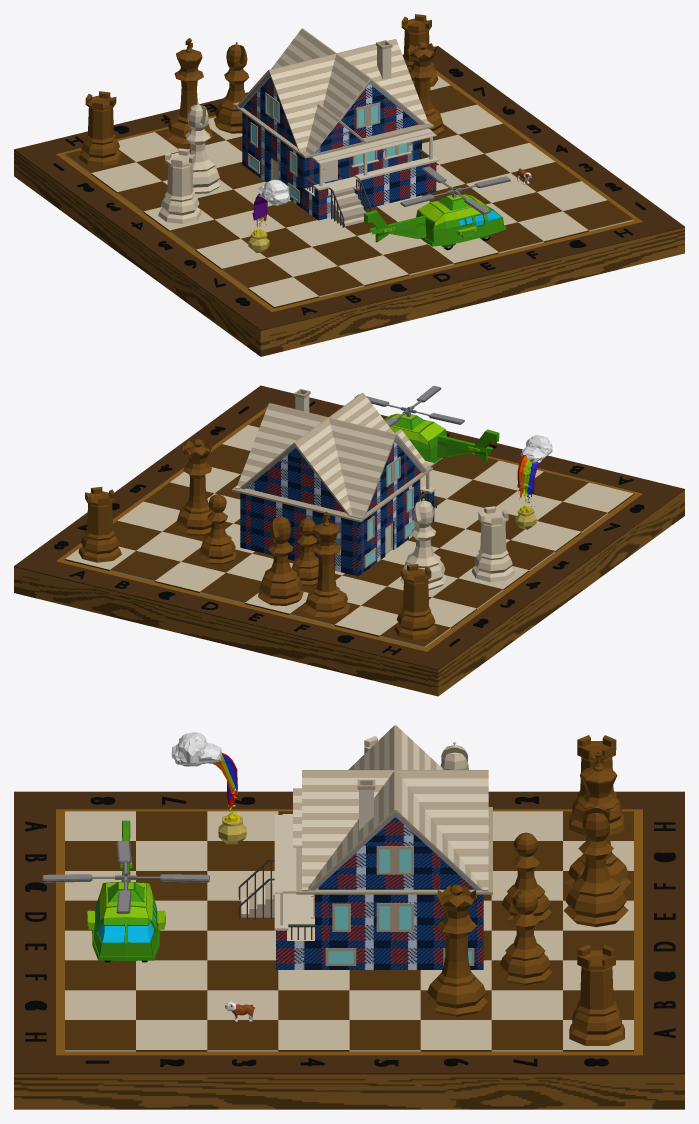
3 renders of one model, top to bottom at view 1: azimuth 30°, elevation 25°; view 2: azimuth 150°, elevation 25°; view 3: azimuth 270°, elevation 25°, orthographic. The views are drawn at different scales.
Visible parts, largest first — view 1: Cube.002, Cube.171, VEHICLES_HELICOPTER, OBJRANDOM_RAINBOW; view 2: Cube.002, Cube.171, VEHICLES_HELICOPTER, OBJRANDOM_RAINBOW; view 3: Cube.002, Cube.171, VEHICLES_HELICOPTER, OBJRANDOM_RAINBOW.
Part boxes in pixels (x1,y1,x2,y2): Cube.002: [14, 14, 684, 356]; Cube.171: [232, 28, 439, 227]; VEHICLES_HELICOPTER: [364, 166, 510, 250]; OBJRANDOM_RAINBOW: [248, 179, 290, 252]; Cube.002: [14, 385, 684, 696]; Cube.171: [232, 389, 436, 576]; VEHICLES_HELICOPTER: [354, 385, 499, 463]; OBJRANDOM_RAINBOW: [515, 435, 552, 529]; Cube.002: [14, 735, 684, 1109]; Cube.171: [238, 725, 492, 969]; VEHICLES_HELICOPTER: [42, 820, 209, 962]; OBJRANDOM_RAINBOW: [171, 732, 246, 844].
Size of the model in its own units: 3981 by 1462 by 4012.
43 materials, 3 textured.
